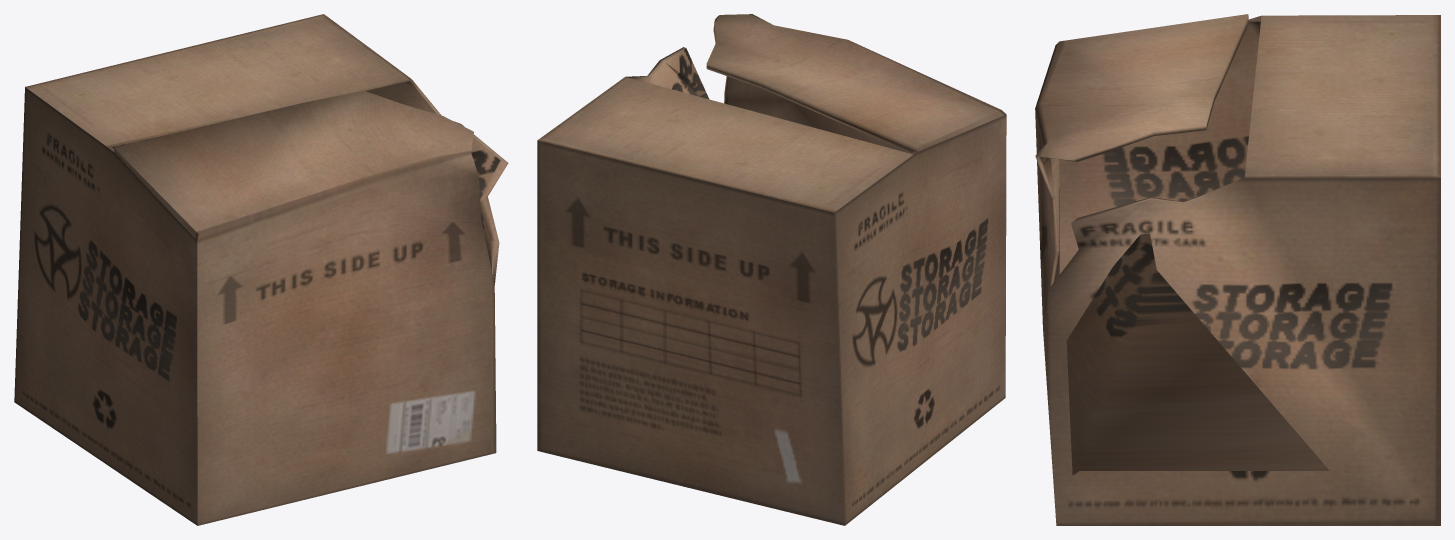
3 views of the same model, side by side, from view 1: azimuth 30°, elevation 25°; view 2: azimuth 150°, elevation 25°; view 3: azimuth 270°, elevation 25° (orthographic). The views are drawn at different scales.
Visible parts, largest first — view 1: Box_16; view 2: Box_16; view 3: Box_16.
Part boxes in pixels (left/top/right/bottom): Box_16: left=14, top=14, right=508, bottom=525; Box_16: left=537, top=14, right=1006, bottom=525; Box_16: left=1035, top=14, right=1440, bottom=525.
Bounding box in the file's own units: 55.93 × 53.7 × 53.73.
